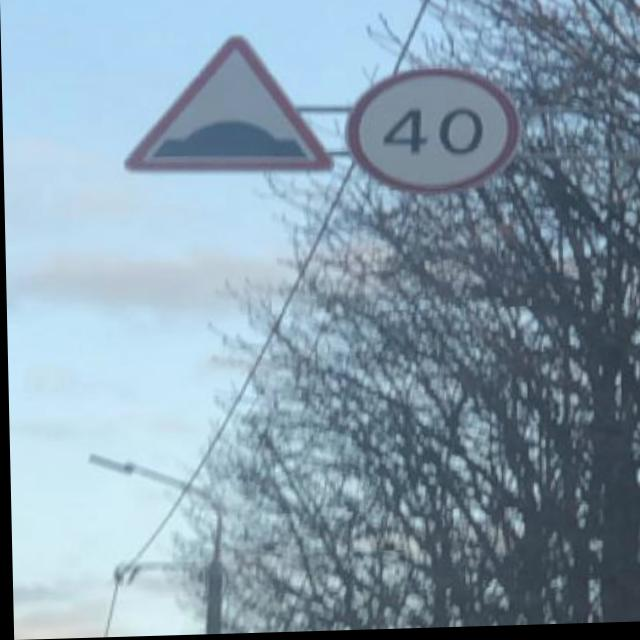limit40: (342, 62, 523, 206)
